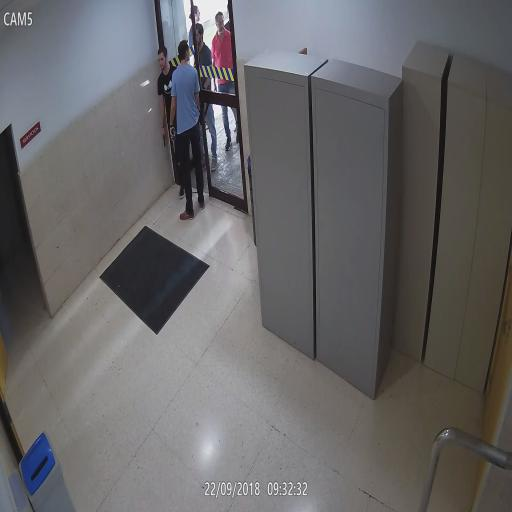Handgun: (169, 127, 177, 152), (169, 127, 177, 148), (161, 132, 166, 146)
